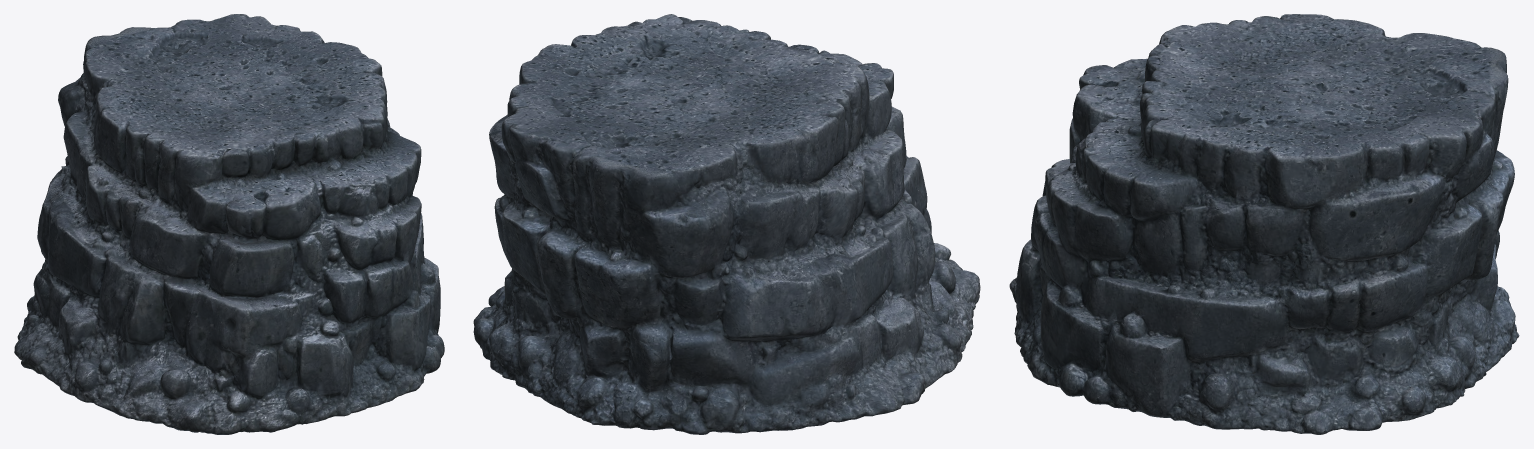
File: prop-mesa.glb
3 views of the same model, side by side, from view 1: azimuth 30°, elevation 25°; view 2: azimuth 150°, elevation 25°; view 3: azimuth 270°, elevation 25° (orthographic). The views are drawn at different scales.
Bounding box in the file's own units: 1.85 × 1.07 × 1.89.
1 material, 1 textured.
